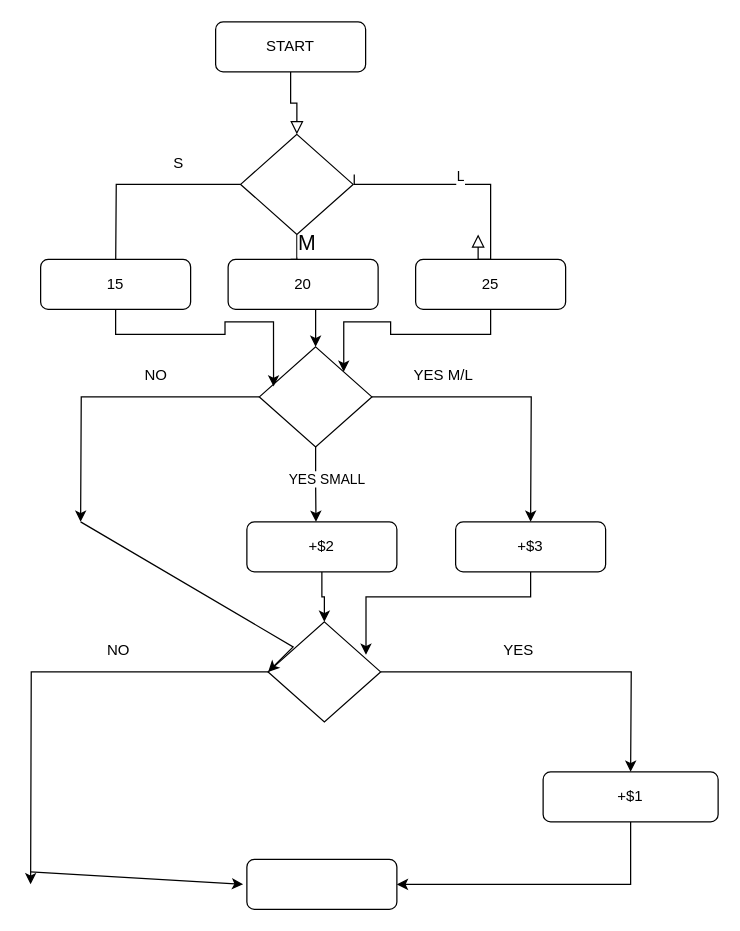
Some shapes in this 740 by 931 pixel diagram are drawn without their labels. The box of each missing label's shape, as (x1, y1, x2, y2) in pixels:
ADD PEPPERONI: (258, 346, 372, 447)
EXTRA CHEESE: (267, 621, 381, 722)
PIZZA SIZE: (239, 133, 353, 234)
Total bill is: (246, 858, 397, 909)
